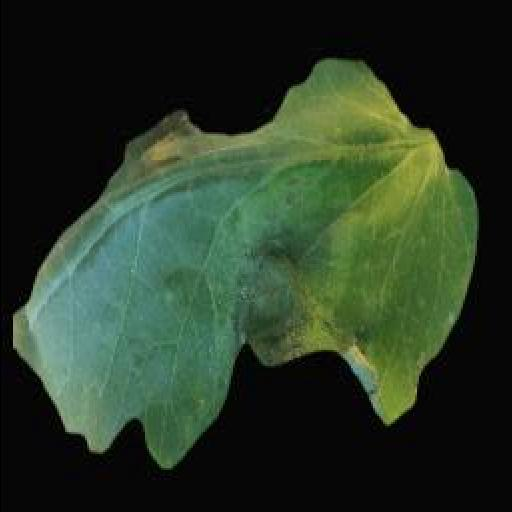disease_tomato: (11, 57, 477, 471)
